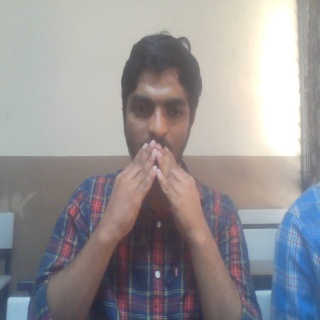Thank You: (102, 140, 214, 251)
